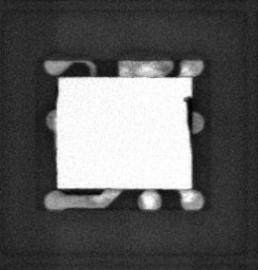DIE_BROKEN: (182, 93, 192, 136)
